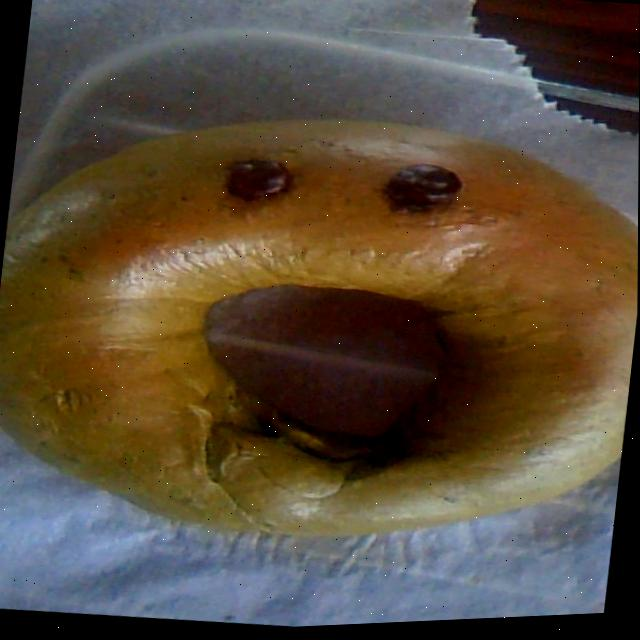面包点心: (0, 0, 640, 625)
